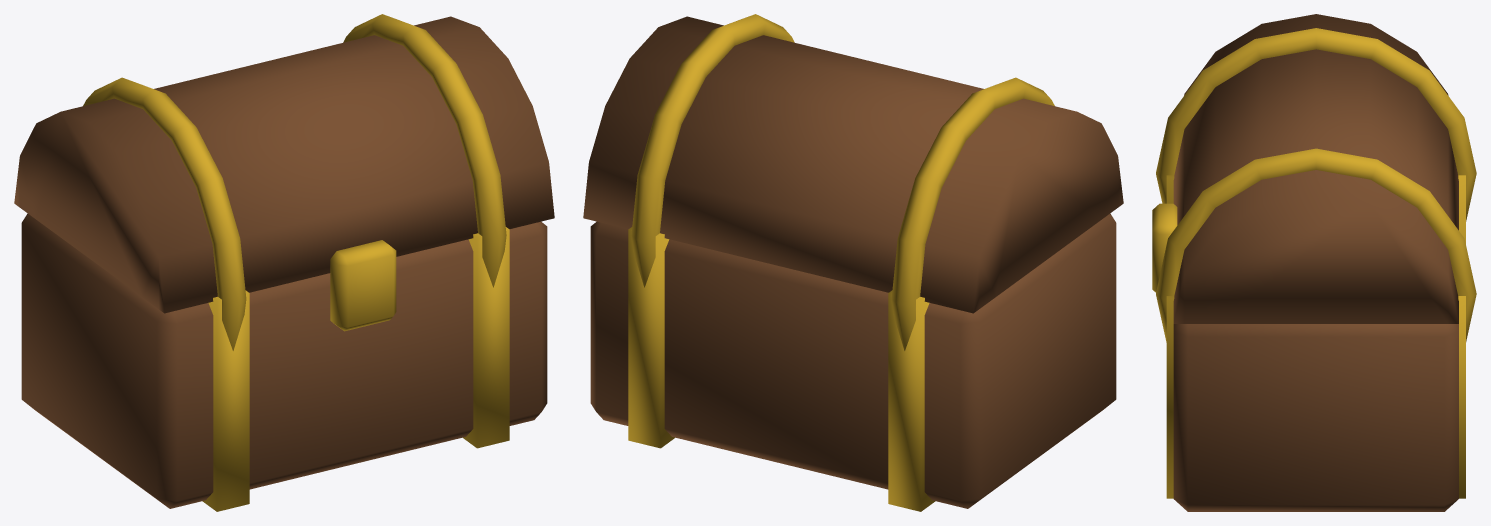
File: chest.glb
3 views of the same model, side by side, from view 1: azimuth 30°, elevation 25°; view 2: azimuth 150°, elevation 25°; view 3: azimuth 270°, elevation 25° (orthographic). The views are drawn at different scales.
Parts seen in each view (by area): view 1: Chest; view 2: Chest; view 3: Chest.
Boxes of the visible parts, box(x1,y1,x2,y2) form: Chest: box(14, 14, 554, 511); Chest: box(583, 14, 1123, 511); Chest: box(1152, 14, 1476, 511).
Bounding box in the file's own units: 1.2 × 1.06 × 0.91.
